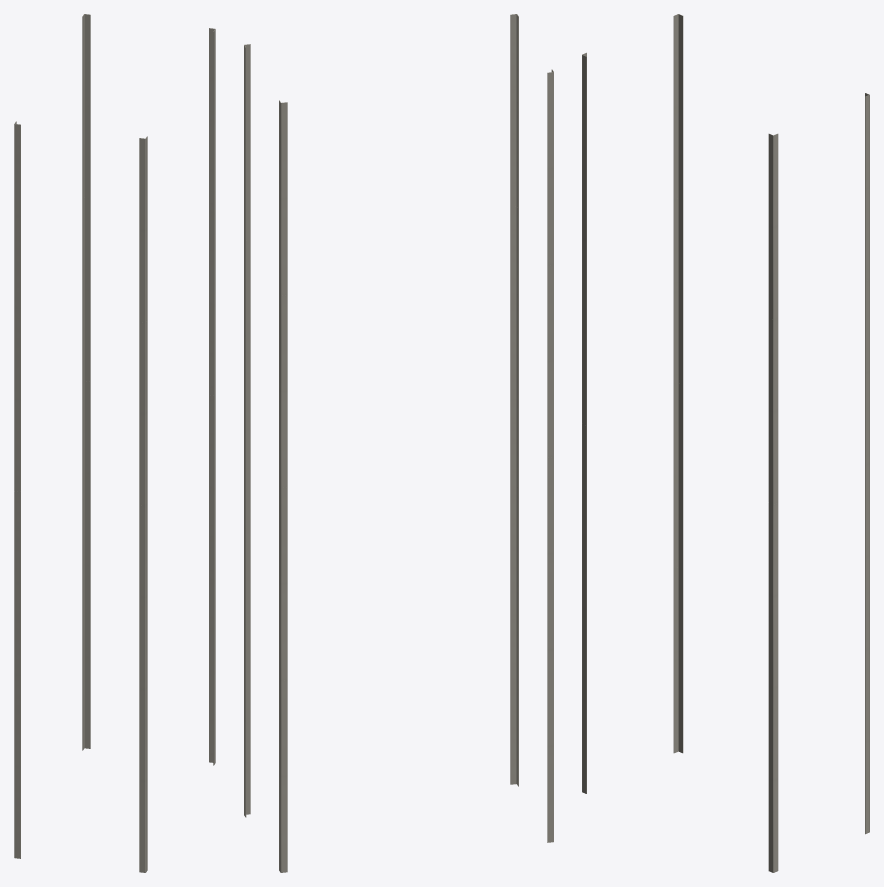
The model's file is shelf_0301_t50_h2400_w800.glb.
The picture shows the model from 3 angles, left to right: view 1: azimuth 30°, elevation 25°; view 2: azimuth 150°, elevation 25°; view 3: azimuth 270°, elevation 25°; orthographic projection. The views are drawn at different scales.
Parts seen in each view (by area): view 1: shelf_0301_t50_h2400_w800; view 2: shelf_0301_t50_h2400_w800; view 3: shelf_0301_t50_h2400_w800.
Part boxes in pixels (x1,y1,x2,y2): shelf_0301_t50_h2400_w800: [14, 14, 215, 872]; shelf_0301_t50_h2400_w800: [244, 14, 553, 872]; shelf_0301_t50_h2400_w800: [582, 14, 869, 872].
Size of the model in its own units: 0.8487 by 2.4 by 0.8487.
Materials: 1 (1 with a texture image).
